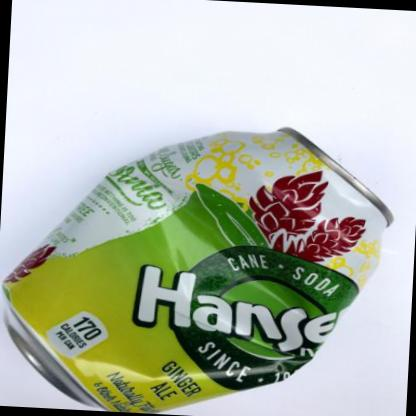Metal: (3, 132, 390, 414)
